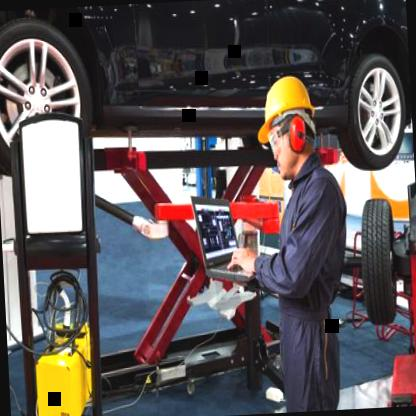helmet: (252, 67, 322, 187)
